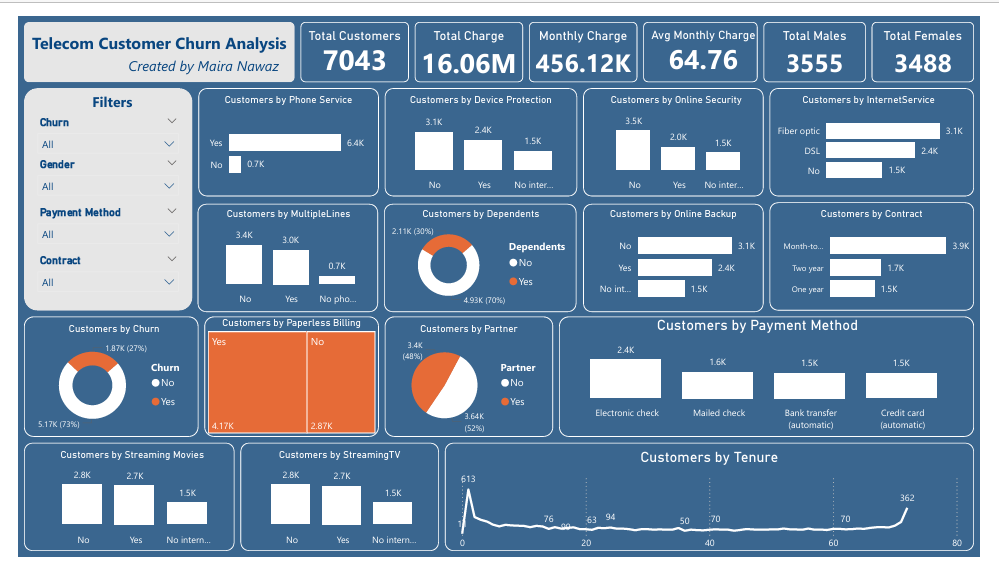

This screenshot's page, from the dashboard's own definition file:
{"tool":"powerbi","page":{"name":"Dashboard ","canvas":[1280,720],"ordinal":0},"visuals":[{"type":"shape","box":[0,0,1280,720],"z":0},{"type":"shape","box":[8,8,360,80],"z":1000},{"type":"shape","box":[376,8,144,80],"z":2000},{"type":"shape","box":[528,8,144,80],"z":3000},{"type":"shape","box":[680,8,144,80],"z":4000},{"type":"shape","box":[832,8,152,80],"z":5000},{"type":"shape","box":[992,8,136,80],"z":6000},{"type":"shape","box":[1136,8,136,80],"z":7000},{"type":"shape","box":[8,96,224,296],"z":8000},{"type":"shape","box":[240,96,240,144],"z":9000},{"type":"shape","box":[488,96,256,144],"z":10000},{"type":"shape","box":[752,96,240,144],"z":11000},{"type":"shape","box":[1000,96,272,144],"z":12000},{"type":"shape","box":[568,568,704,144],"z":13000},{"type":"shape","box":[296,568,264,144],"z":14000},{"type":"shape","box":[8,568,280,144],"z":15000},{"type":"shape","box":[8,400,232,160],"z":16000},{"type":"shape","box":[248,400,232,160],"z":17000},{"type":"shape","box":[488,400,224,160],"z":18000},{"type":"shape","box":[720,400,552,160],"z":19000},{"type":"shape","box":[239.5,250,240,144],"z":20000},{"type":"shape","box":[487.5,250,256,144],"z":21000},{"type":"shape","box":[751.5,250,240,144],"z":22000},{"type":"shape","box":[1000,248,272,144],"z":23000},{"type":"card","title":"Total Customers","fields":{"Values":["Count(Telco Customer Churn.customerID)"]},"box":[368,16,160,64],"z":24000},{"type":"card","title":"Avg Monthly Charge","fields":{"Values":["Avg(Telco Customer Churn.MonthlyCharges)"]},"box":[832,16,160,64],"z":25000},{"type":"card","title":"Total Charge","fields":{"Values":["Sum(Telco Customer Churn.TotalCharges)"]},"box":[528,16,144,72],"z":26000},{"type":"card","title":"Monthly Charge","fields":{"Values":["Sum(Telco Customer Churn.MonthlyCharges)"]},"box":[680,16,144,72],"z":27000},{"type":"barChart","title":"Customers by Phone Service","fields":{"Y":["CountNonNull(Telco Customer Churn.customerID)"],"Category":["Telco Customer Churn.PhoneService"]},"box":[248,104,224,136],"z":28000},{"type":"columnChart","title":"Customers by Device Protection","fields":{"Category":["Telco Customer Churn.DeviceProtection"],"Y":["CountNonNull(Telco Customer Churn.customerID)"]},"box":[488,104,256,136],"z":29000},{"type":"columnChart","title":"Customers by Online Security","fields":{"Y":["CountNonNull(Telco Customer Churn.customerID)"],"Category":["Telco Customer Churn.OnlineSecurity"]},"box":[760,104,232,136],"z":30000},{"type":"barChart","title":"Customers by InternetService","fields":{"Category":["Telco Customer Churn.InternetService"],"Y":["CountNonNull(Telco Customer Churn.customerID)"]},"box":[1000,104,264,128],"z":31000},{"type":"donutChart","title":"Customers by Churn","fields":{"Category":["Telco Customer Churn.Churn"],"Y":["CountNonNull(Telco Customer Churn.customerID)"]},"box":[16,408,224,152],"z":32000},{"type":"donutChart","title":"Customers by Dependents","fields":{"Category":["Telco Customer Churn.Dependents"],"Y":["CountNonNull(Telco Customer Churn.customerID)"]},"box":[488,256,256,136],"z":33000},{"type":"columnChart","title":"Customers by MultipleLines","fields":{"Category":["Telco Customer Churn.MultipleLines"],"Y":["CountNonNull(Telco Customer Churn.customerID)"]},"box":[240,256,240,136],"z":34000},{"type":"barChart","title":"Customers by Online Backup","fields":{"Y":["CountNonNull(Telco Customer Churn.customerID)"],"Category":["Telco Customer Churn.OnlineBackup"]},"box":[752,256,240,136],"z":35000},{"type":"pieChart","title":"Customers by Partner","fields":{"Category":["Telco Customer Churn.Partner"],"Y":["CountNonNull(Telco Customer Churn.customerID)"]},"box":[488,408,224,152],"z":36000},{"type":"columnChart","title":"Customers by Payment Method","fields":{"Y":["CountNonNull(Telco Customer Churn.customerID)"],"Category":["Telco Customer Churn.PaymentMethod"]},"box":[688,400,592,160],"z":37000},{"type":"columnChart","title":"Customers by Streaming Movies","fields":{"Category":["Telco Customer Churn.StreamingMovies"],"Y":["CountNonNull(Telco Customer Churn.customerID)"]},"box":[16,576,272,136],"z":38000},{"type":"columnChart","title":"Customers by StreamingTV","fields":{"Category":["Telco Customer Churn.StreamingTV"],"Y":["CountNonNull(Telco Customer Churn.customerID)"]},"box":[296,576,264,136],"z":39000},{"type":"lineChart","title":"Customers by Tenure","fields":{"Category":["Telco Customer Churn.tenure"],"Y":["CountNonNull(Telco Customer Churn.customerID)"]},"box":[576,576,688,144],"z":40000},{"type":"treemap","title":"Customers by Paperless Billing","fields":{"Group":["Telco Customer Churn.PaperlessBilling"],"Values":["CountNonNull(Telco Customer Churn.customerID)"]},"box":[248,400,232,160],"z":41000},{"type":"barChart","title":"Customers by Contract","fields":{"Category":["Telco Customer Churn.Contract"],"Y":["CountNonNull(Telco Customer Churn.customerID)"]},"box":[1000,256,272,136],"z":42000},{"type":"slicer","fields":{"Values":["Telco Customer Churn.Churn"]},"box":[16,128,208,64],"z":43000},{"type":"textbox","box":[32,96,192,40],"z":44000},{"type":"slicer","fields":{"Values":["Telco Customer Churn.gender"]},"box":[16,184,208,64],"z":45000},{"type":"slicer","fields":{"Values":["Telco Customer Churn.PaymentMethod"]},"box":[16,248,208,64],"z":46000},{"type":"slicer","fields":{"Values":["Telco Customer Churn.Contract"]},"box":[16,312,208,64],"z":47000},{"type":"textbox","box":[8,16,360,48],"z":48000},{"type":"textbox","box":[112,48,240,40],"z":49000},{"type":"card","title":"Total Females","fields":{"Values":["metrics.Total Females"]},"box":[1136,16,136,72],"z":50000},{"type":"card","title":"Total Males","fields":{"Values":["metrics.Total Males"]},"box":[992,16,136,72],"z":51000}]}

Visuals, with their boxes in screenshot pixels (x1, y1, x2, y2), scaled from the page's 1280x720 canvas onto the 999x574 screenshot:
shape: select_region(0, 0, 998, 573)
shape: select_region(6, 6, 287, 70)
shape: select_region(293, 6, 406, 70)
shape: select_region(412, 6, 524, 70)
shape: select_region(531, 6, 643, 70)
shape: select_region(649, 6, 768, 70)
shape: select_region(774, 6, 880, 70)
shape: select_region(887, 6, 993, 70)
shape: select_region(6, 77, 181, 313)
shape: select_region(187, 77, 375, 191)
shape: select_region(381, 77, 581, 191)
shape: select_region(587, 77, 774, 191)
shape: select_region(780, 77, 993, 191)
shape: select_region(443, 453, 993, 568)
shape: select_region(231, 453, 437, 568)
shape: select_region(6, 453, 225, 568)
shape: select_region(6, 319, 187, 446)
shape: select_region(194, 319, 375, 446)
shape: select_region(381, 319, 556, 446)
shape: select_region(562, 319, 993, 446)
shape: select_region(187, 199, 374, 314)
shape: select_region(380, 199, 580, 314)
shape: select_region(587, 199, 774, 314)
shape: select_region(780, 198, 993, 313)
"Total Customers" card: select_region(287, 13, 412, 64)
"Avg Monthly Charge" card: select_region(649, 13, 774, 64)
"Total Charge" card: select_region(412, 13, 524, 70)
"Monthly Charge" card: select_region(531, 13, 643, 70)
"Customers by Phone Service" barChart: select_region(194, 83, 368, 191)
"Customers by Device Protection" columnChart: select_region(381, 83, 581, 191)
"Customers by Online Security" columnChart: select_region(593, 83, 774, 191)
"Customers by InternetService" barChart: select_region(780, 83, 987, 185)
"Customers by Churn" donutChart: select_region(12, 325, 187, 446)
"Customers by Dependents" donutChart: select_region(381, 204, 581, 313)
"Customers by MultipleLines" columnChart: select_region(187, 204, 375, 313)
"Customers by Online Backup" barChart: select_region(587, 204, 774, 313)
"Customers by Partner" pieChart: select_region(381, 325, 556, 446)
"Customers by Payment Method" columnChart: select_region(537, 319, 998, 446)
"Customers by Streaming Movies" columnChart: select_region(12, 459, 225, 568)
"Customers by StreamingTV" columnChart: select_region(231, 459, 437, 568)
"Customers by Tenure" lineChart: select_region(450, 459, 987, 573)
"Customers by Paperless Billing" treemap: select_region(194, 319, 375, 446)
"Customers by Contract" barChart: select_region(780, 204, 993, 313)
slicer - Telco Customer Churn.Churn: select_region(12, 102, 175, 153)
textbox: select_region(25, 77, 175, 108)
slicer - Telco Customer Churn.gender: select_region(12, 147, 175, 198)
slicer - Telco Customer Churn.PaymentMethod: select_region(12, 198, 175, 249)
slicer - Telco Customer Churn.Contract: select_region(12, 249, 175, 300)
textbox: select_region(6, 13, 287, 51)
textbox: select_region(87, 38, 275, 70)
"Total Females" card: select_region(887, 13, 993, 70)
"Total Males" card: select_region(774, 13, 880, 70)
